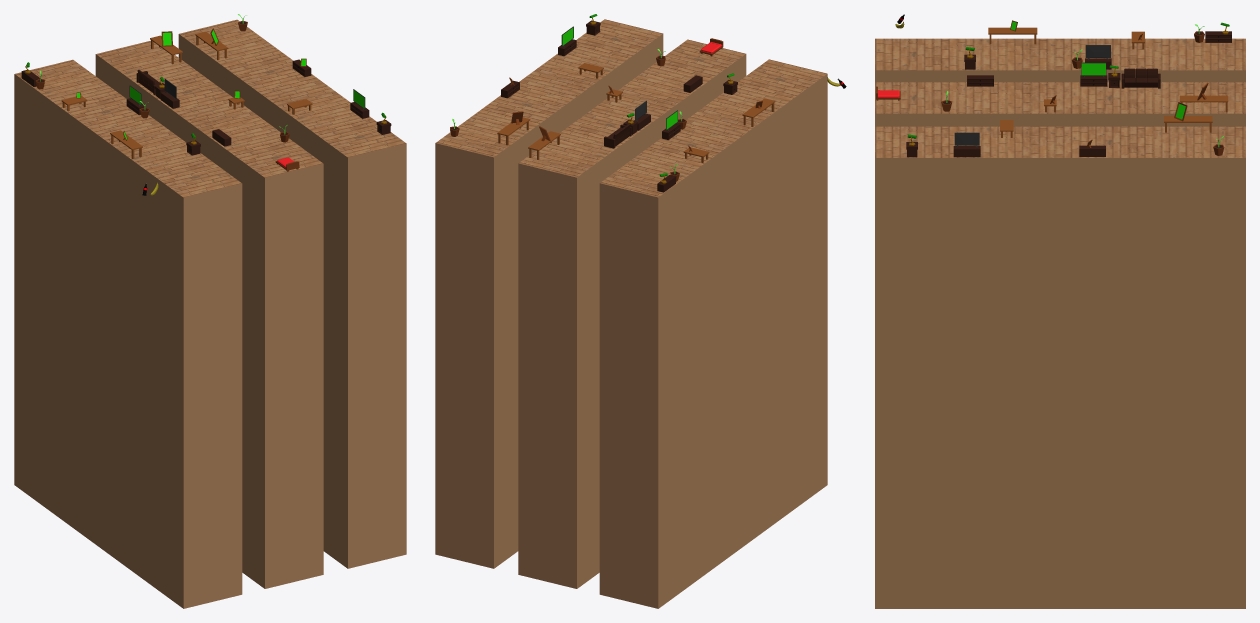
Rendered from stage1_2.glb.
3 renders of one model, left to right at view 1: azimuth 30°, elevation 25°; view 2: azimuth 150°, elevation 25°; view 3: azimuth 270°, elevation 25°, orthographic. The views are drawn at different scales.
Parts seen in each view (by area): view 1: $Road1, $Road3, $Road2; view 2: $Road1, $Road3, $Road2; view 3: $Road3, $Road2, $Road1, sofa1.
Part boxes in pixels (x1,y1,x2,y2): $Road1: [14, 59, 242, 608]; $Road3: [178, 19, 406, 568]; $Road2: [95, 40, 323, 588]; $Road1: [599, 59, 827, 608]; $Road3: [435, 19, 663, 568]; $Road2: [518, 39, 746, 588]; $Road3: [875, 126, 1245, 608]; $Road2: [875, 82, 1245, 126]; $Road1: [875, 38, 1245, 82]; sofa1: [1121, 68, 1160, 88].
Size of the model in its own units: 25.85 by 42.51 by 30.
17 materials, 1 textured.
